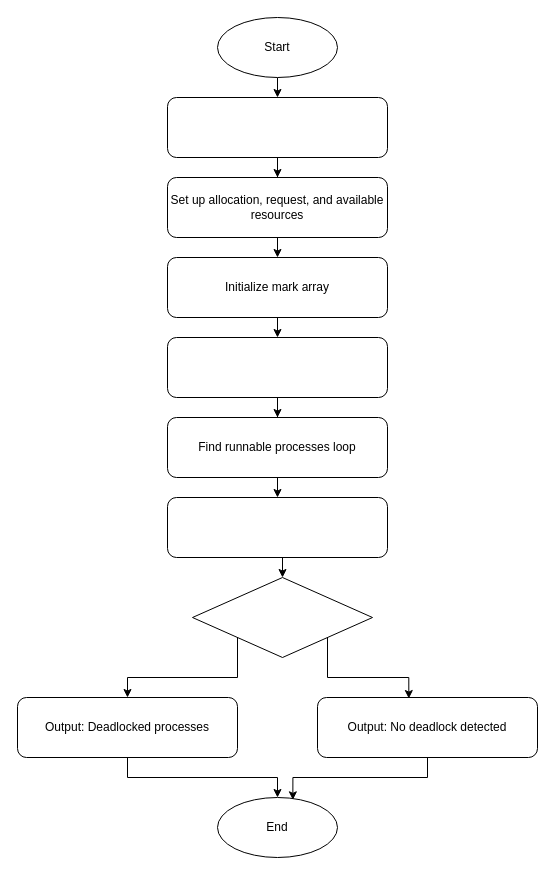
Some shapes in this 555 by 875 pixel diagram are drawn without their labels. Here are the shapes that lost their labels. From the top down, the centre of each, then its label:
point 277,127: Initialize DeadlockDetector class
point 277,367: Copy available resources to work vector
point 277,527: Check for deadlocked processes
point 282,617: Decision: Deadlock detected?
